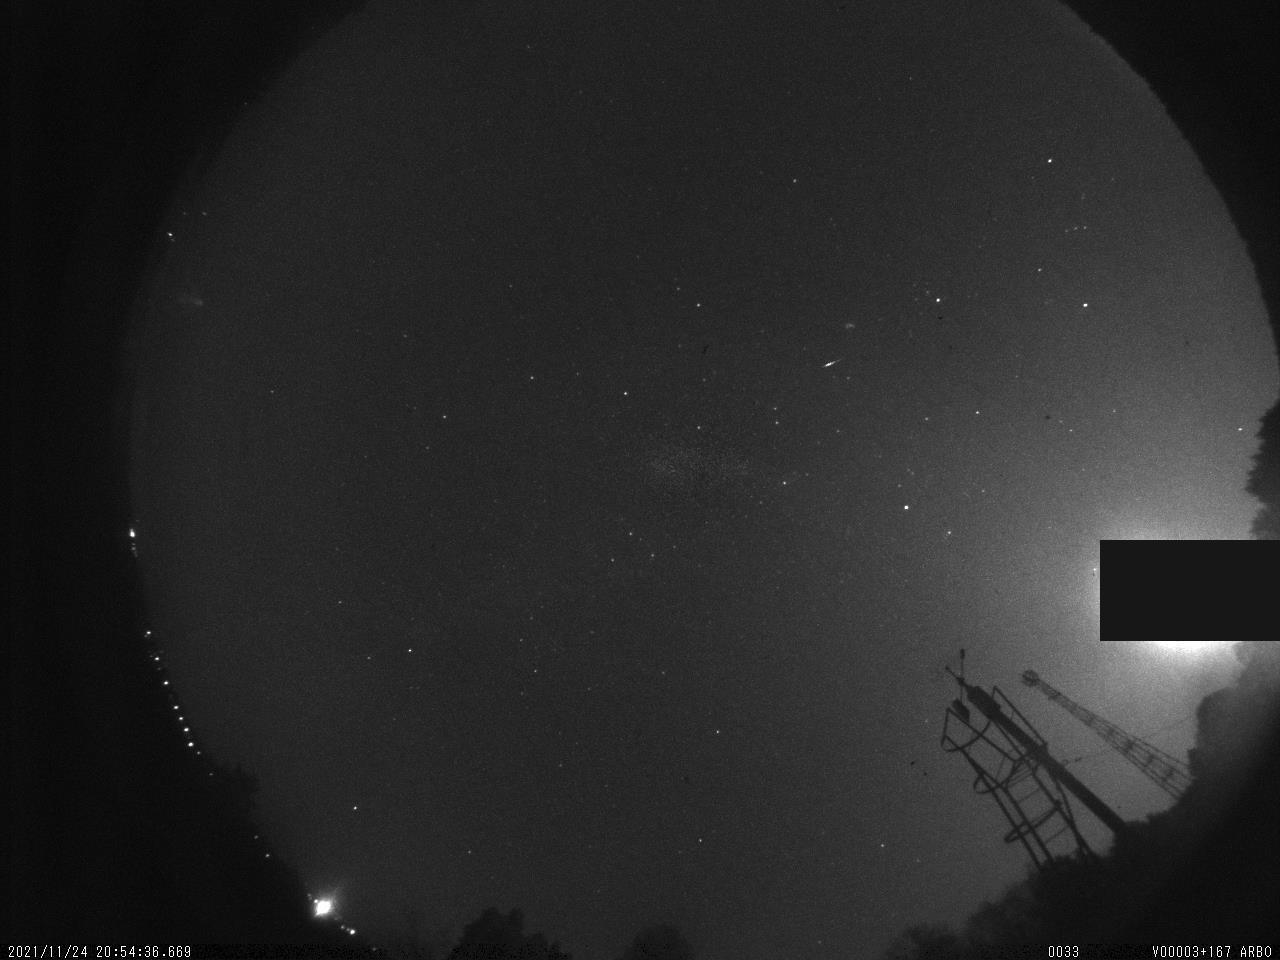meteor: (817, 351, 850, 373)
